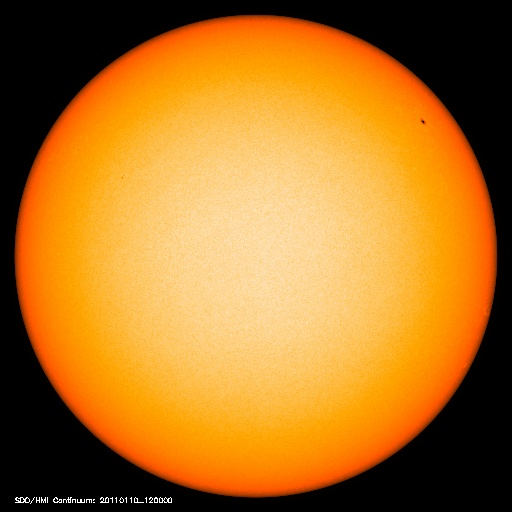sunspot: (408, 109, 440, 137)
